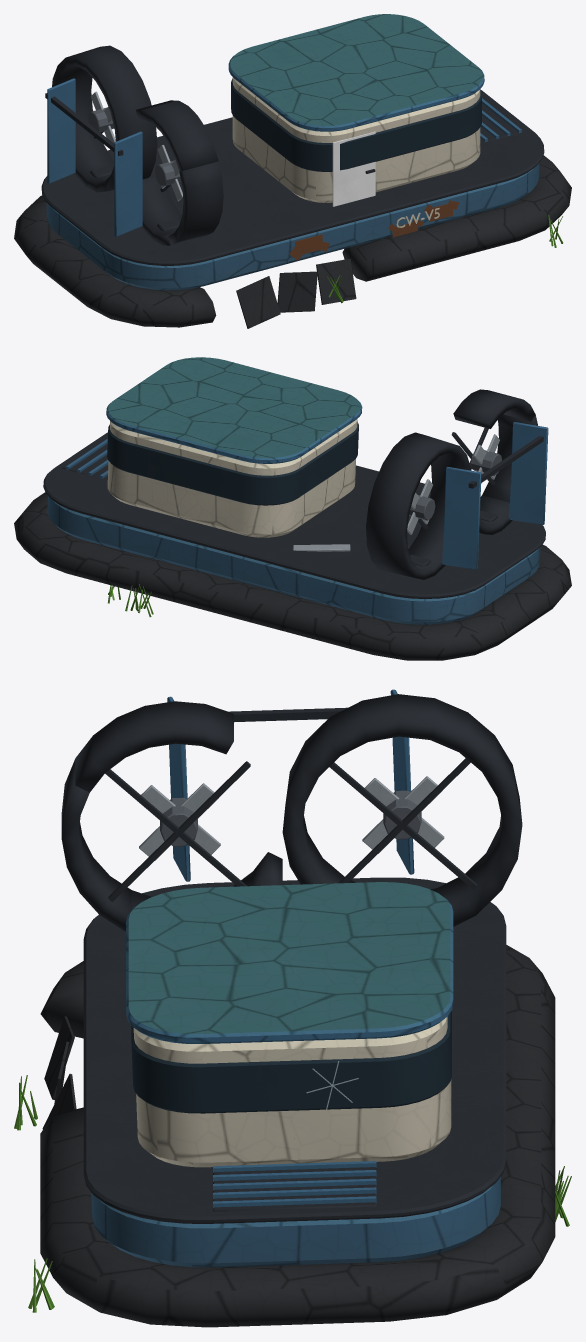
Rendered from hovercraft_wreck.glb.
The picture shows the model from 3 angles, top to bottom: view 1: azimuth 30°, elevation 25°; view 2: azimuth 150°, elevation 25°; view 3: azimuth 270°, elevation 25°; orthographic projection. The views are drawn at different scales.
Visible parts, largest first — view 1: hovercraft_wreck; view 2: hovercraft_wreck; view 3: hovercraft_wreck.
Boxes of the visible parts, x1,y1,x2,y2 form: hovercraft_wreck: (14,14,571,328); hovercraft_wreck: (14,357,571,660); hovercraft_wreck: (14,689,571,1327).
Bounding box in the file's own units: 6.78 × 2.78 × 4.09.
16 materials, 16 textured.
